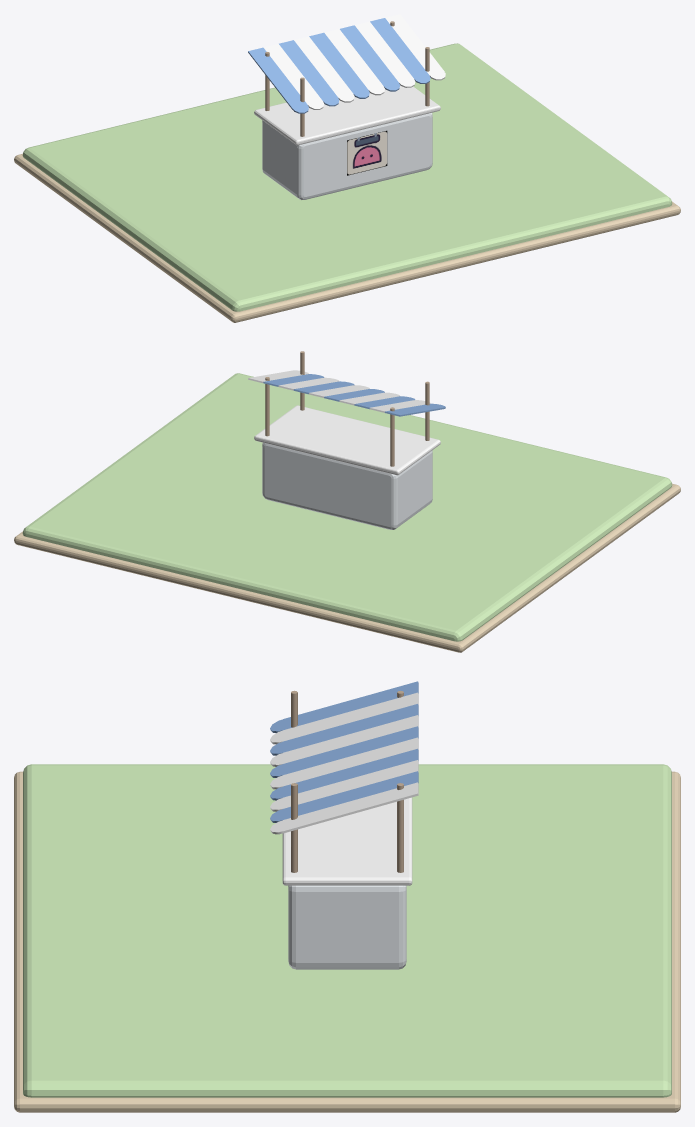
The model's file is building_testlab_L01.glb.
The picture shows the model from 3 angles, top to bottom: view 1: azimuth 30°, elevation 25°; view 2: azimuth 150°, elevation 25°; view 3: azimuth 270°, elevation 25°; orthographic projection. The views are drawn at different scales.
Visible parts, largest first — view 1: testlab_L1, object 1; view 2: testlab_L1; view 3: testlab_L1.
Boxes of the visible parts, bbox=[...] form: testlab_L1: bbox=[14, 14, 680, 322]; object 1: bbox=[347, 130, 387, 175]; testlab_L1: bbox=[14, 351, 680, 652]; testlab_L1: bbox=[14, 681, 680, 1112].
Size of the model in its own units: 26.61 by 7.91 by 22.6.
Materials: 7 (1 with a texture image).
